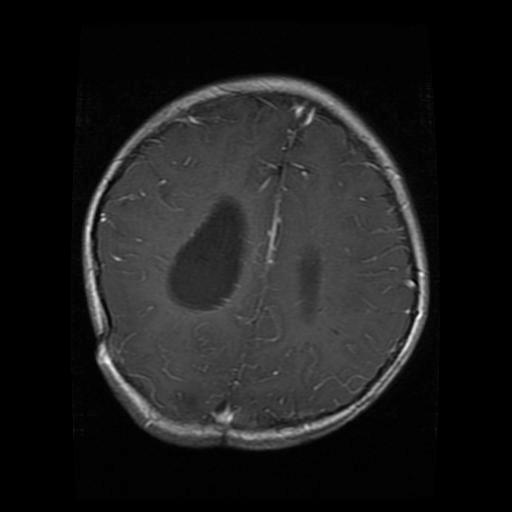Tumour-Glioma: (167, 183, 255, 323)
